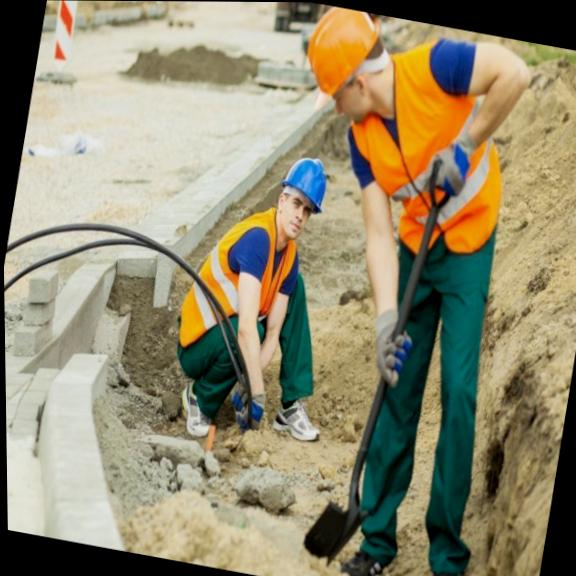safety_vest: (334, 37, 523, 256), (173, 186, 303, 367)
